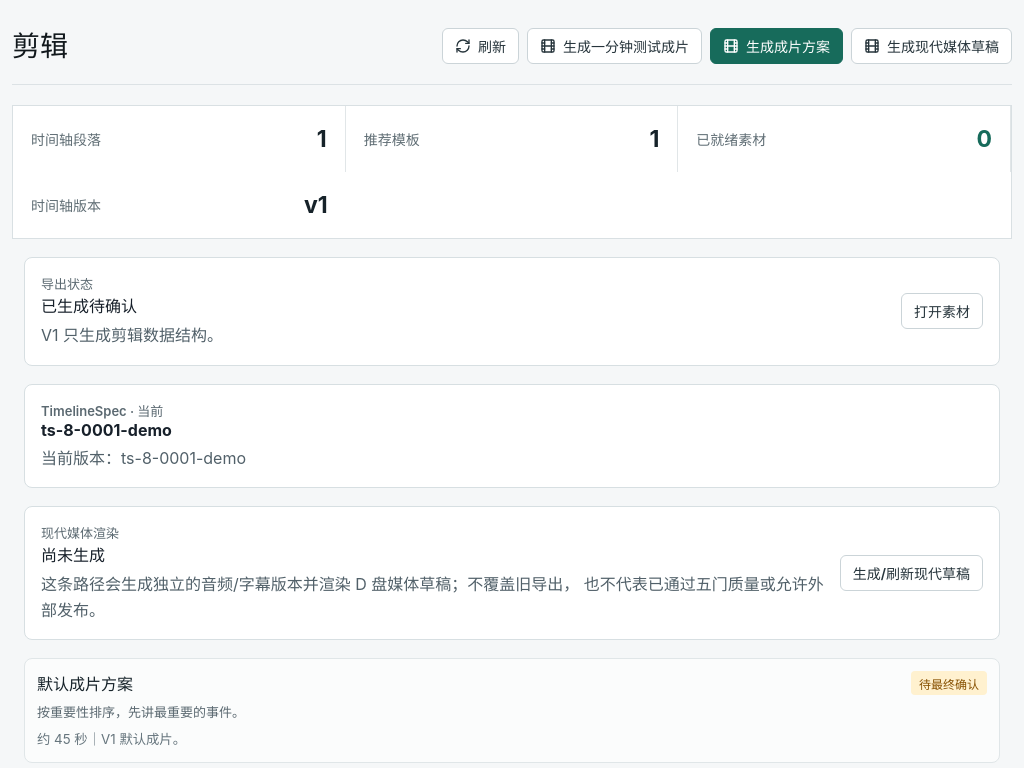
Test: 剪辑页面 › 剪辑页能触发一分钟测试成片并显示结果
Expected: the heading "剪辑" is shown, [12, 24, 68, 64]
Expected: the text "ts-8-0001-demo" is shown, [41, 420, 172, 440]
What coordinates should you click on to do the following:
click the button "生成一分钟测试成片"
I would click on:
 (614, 46)
Its box is [527, 28, 702, 64].
(page scrolled)
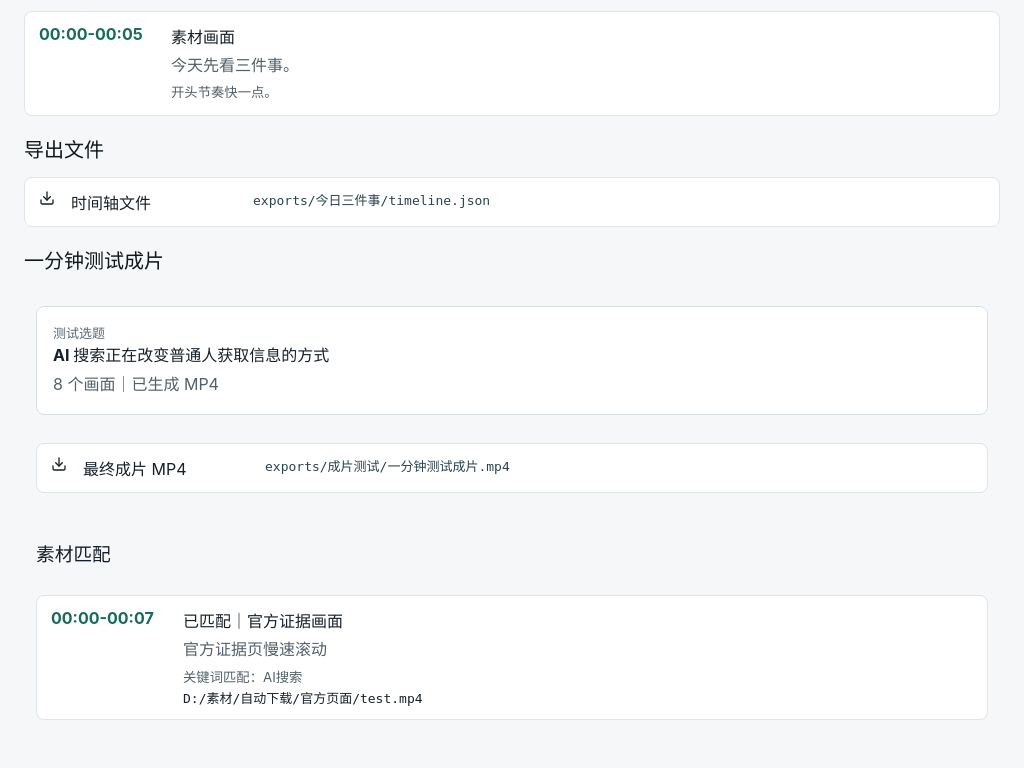
Expected: the heading "一分钟测试成片" is shown, [24, 249, 164, 273]
Expected: the text "exports/成片测试/一分钟测试成片.mp4" is shown, [265, 458, 510, 474]
Expected: the text "关键词匹配：AI搜索" is shown, [183, 669, 302, 685]
